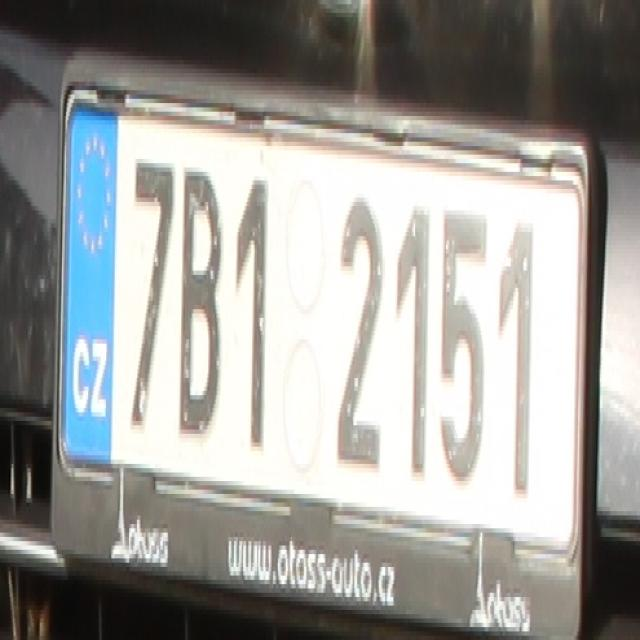1: (498, 215, 535, 502), (396, 202, 426, 485), (234, 180, 266, 442)
2: (336, 189, 382, 472)
5: (439, 198, 485, 481)
7: (124, 154, 169, 433)
B: (178, 167, 218, 434)
